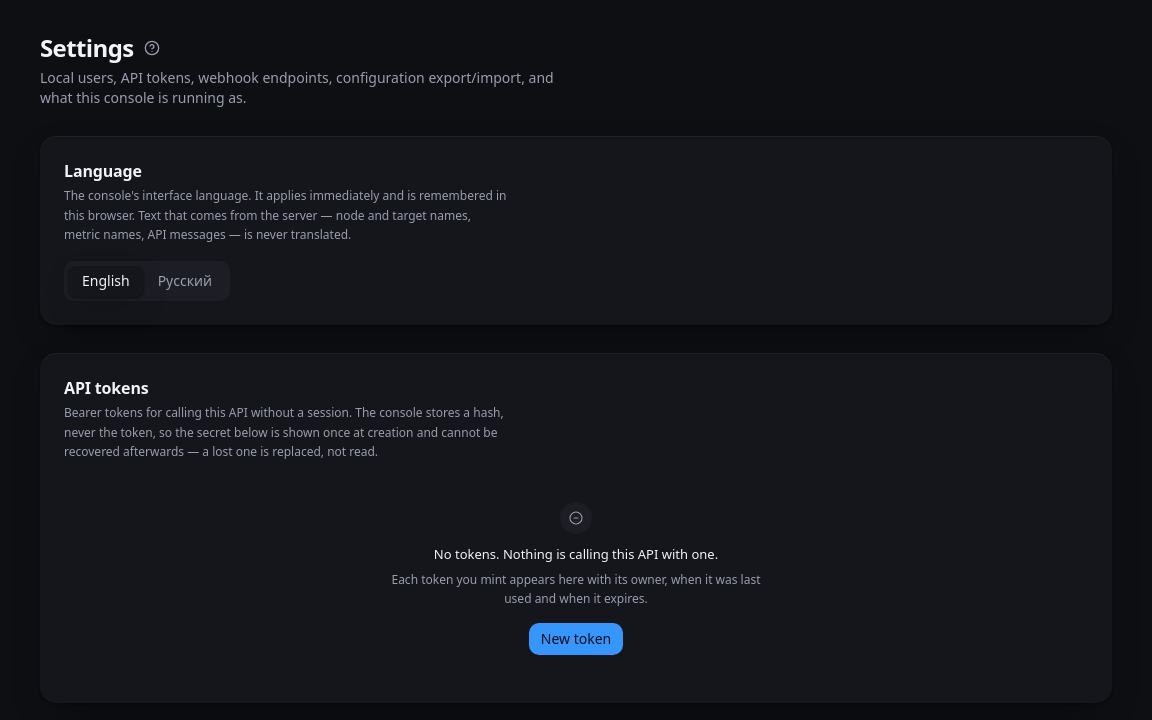
Test case: tokens section › create › refuses a nameless token client-side and never POSTs it
What coordinates should you click on to do the following:
click the button "New token"
I would click on:
 (576, 639)
Its box is x1=529 y1=623 x2=623 y2=655.
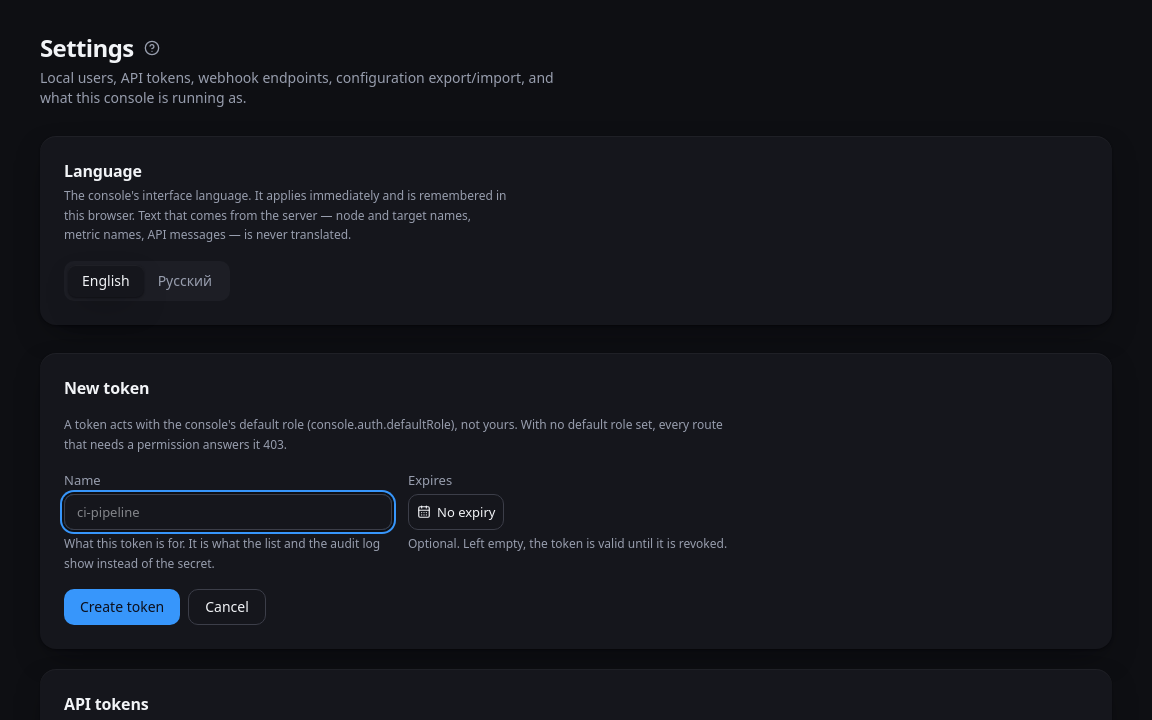
What coordinates should you click on to do the following:
click the button "Create token"
I would click on:
 (122, 607)
Its box is x1=64 y1=589 x2=180 y2=625.
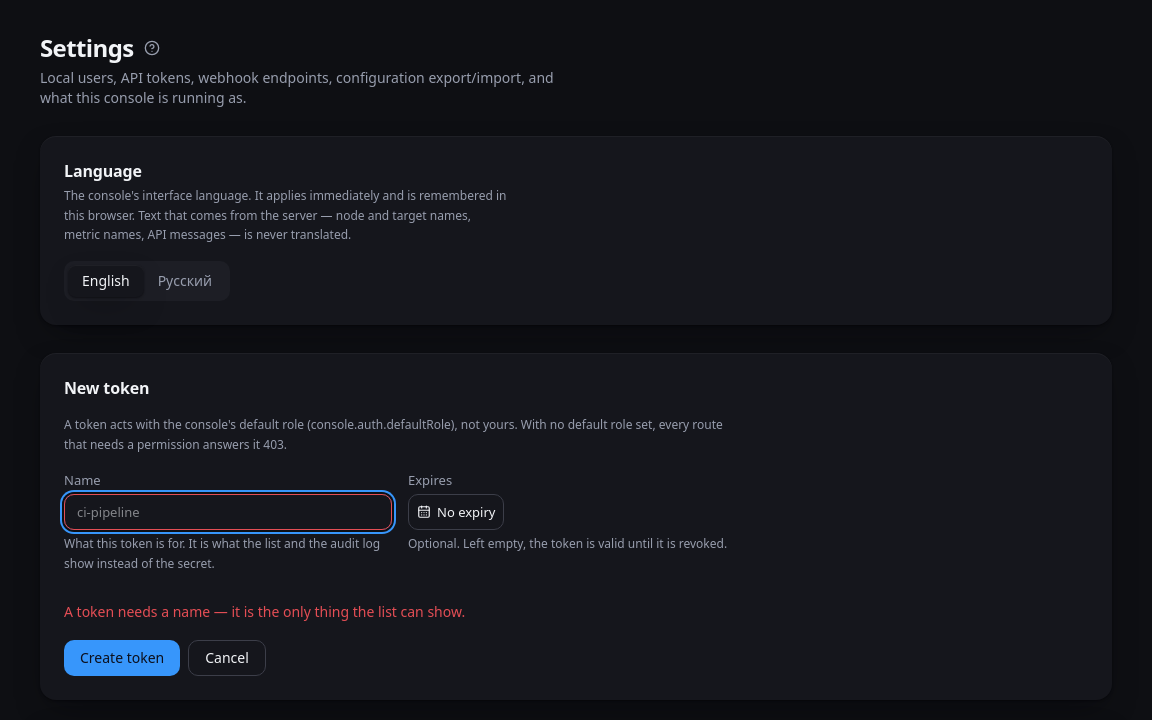
Expected: the text "A token needs a name — it is the only thing the list can show." is shown, x1=64 y1=602 x2=465 y2=621
